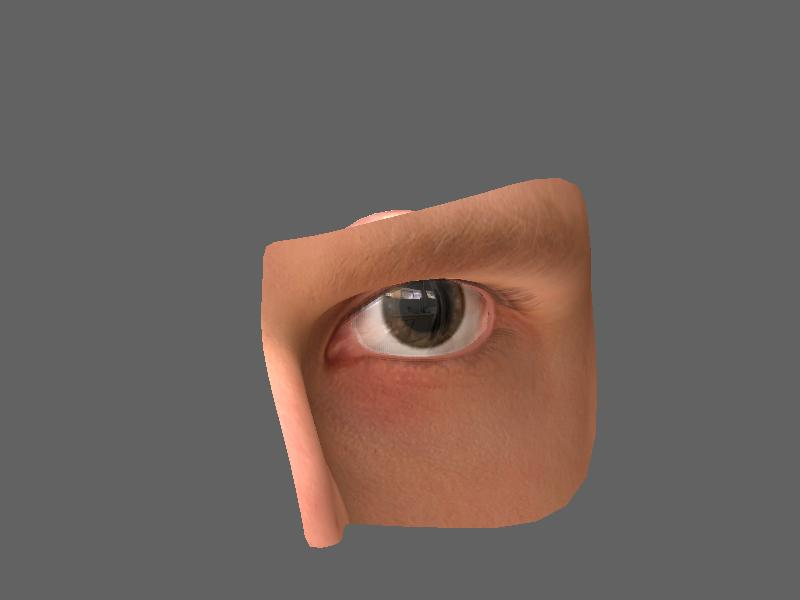iris: (376, 279, 470, 347)
